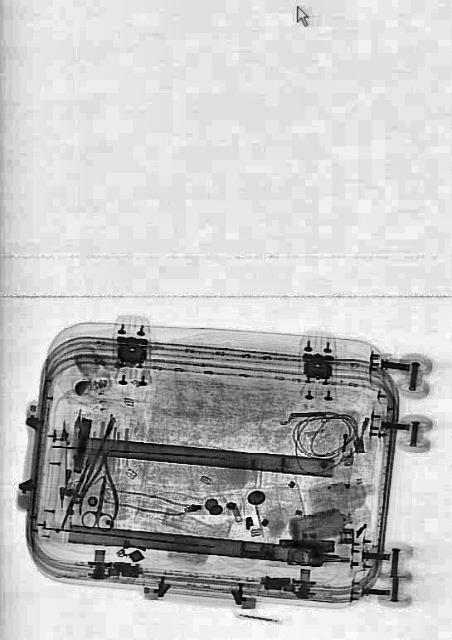Pliers: (76, 443, 124, 521)
Scissors: (80, 470, 118, 534)
